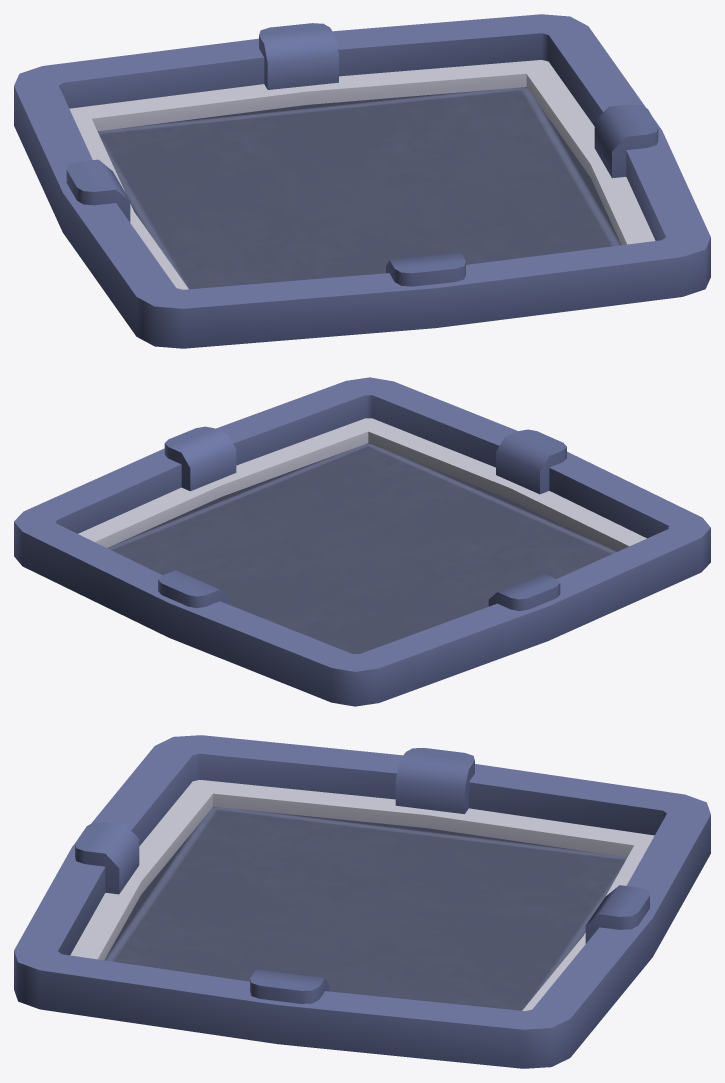
The model's file is template-floor-layer.003_lev4.glb.
3 views of the same model, one above another, from view 1: azimuth 30°, elevation 25°; view 2: azimuth 150°, elevation 25°; view 3: azimuth 270°, elevation 25° (orthographic). The views are drawn at different scales.
Parts seen in each view (by area): view 1: template-floor-layer.003_lev4; view 2: template-floor-layer.003_lev4; view 3: template-floor-layer.003_lev4.
Part boxes in pixels (bbox=[...]): template-floor-layer.003_lev4: bbox=[14, 14, 710, 348]; template-floor-layer.003_lev4: bbox=[14, 377, 710, 706]; template-floor-layer.003_lev4: bbox=[14, 735, 710, 1068].
Bounding box in the file's own units: 14.52 × 1.2 × 14.52.
Materials: 1 (1 with a texture image).
